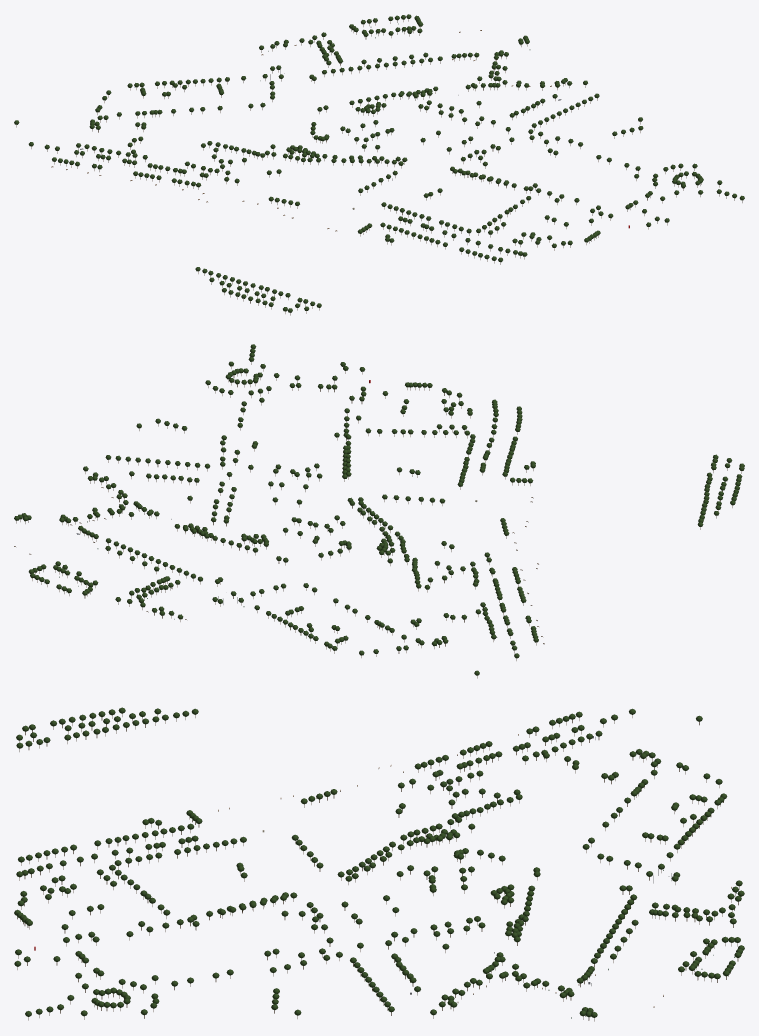
Rendered from props.glb.
The picture shows the model from 3 angles, top to bottom: view 1: azimuth 30°, elevation 25°; view 2: azimuth 150°, elevation 25°; view 3: azimuth 270°, elevation 25°; orthographic projection. The views are drawn at different scales.
Parts seen in each view (by area): view 1: T_W1_N6_props; view 2: T_W1_N6_props; view 3: T_W1_N6_props.
Boxes of the visible parts, x1,y1,x2,y2 form: T_W1_N6_props: [14, 14, 744, 315]; T_W1_N6_props: [14, 344, 744, 678]; T_W1_N6_props: [14, 707, 744, 1021].
Bounding box in the file's own units: 505 × 10.27 × 504.
